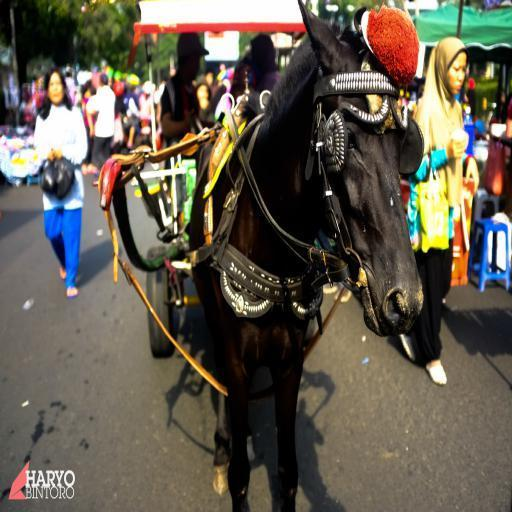horse: (188, 0, 424, 512)
